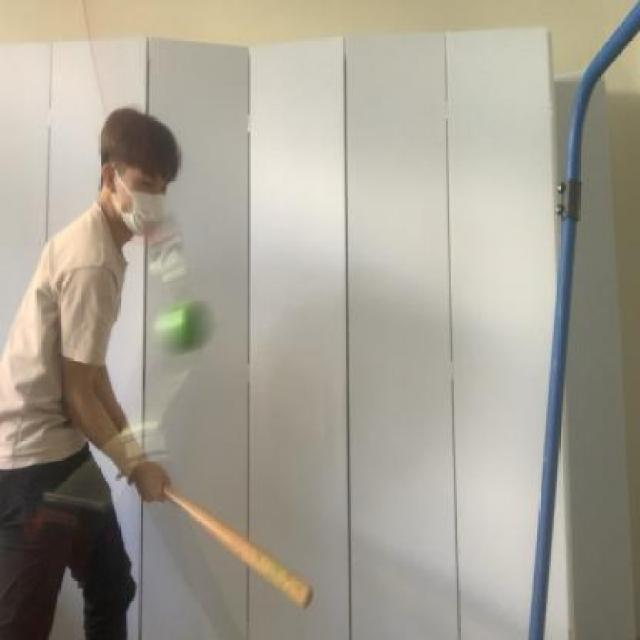baseball: (146, 291, 228, 367)
